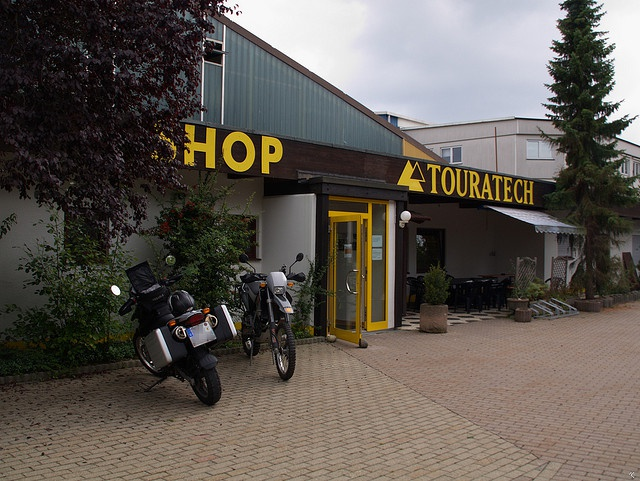non-vehicle: (109, 255, 236, 405), (233, 251, 305, 380)
